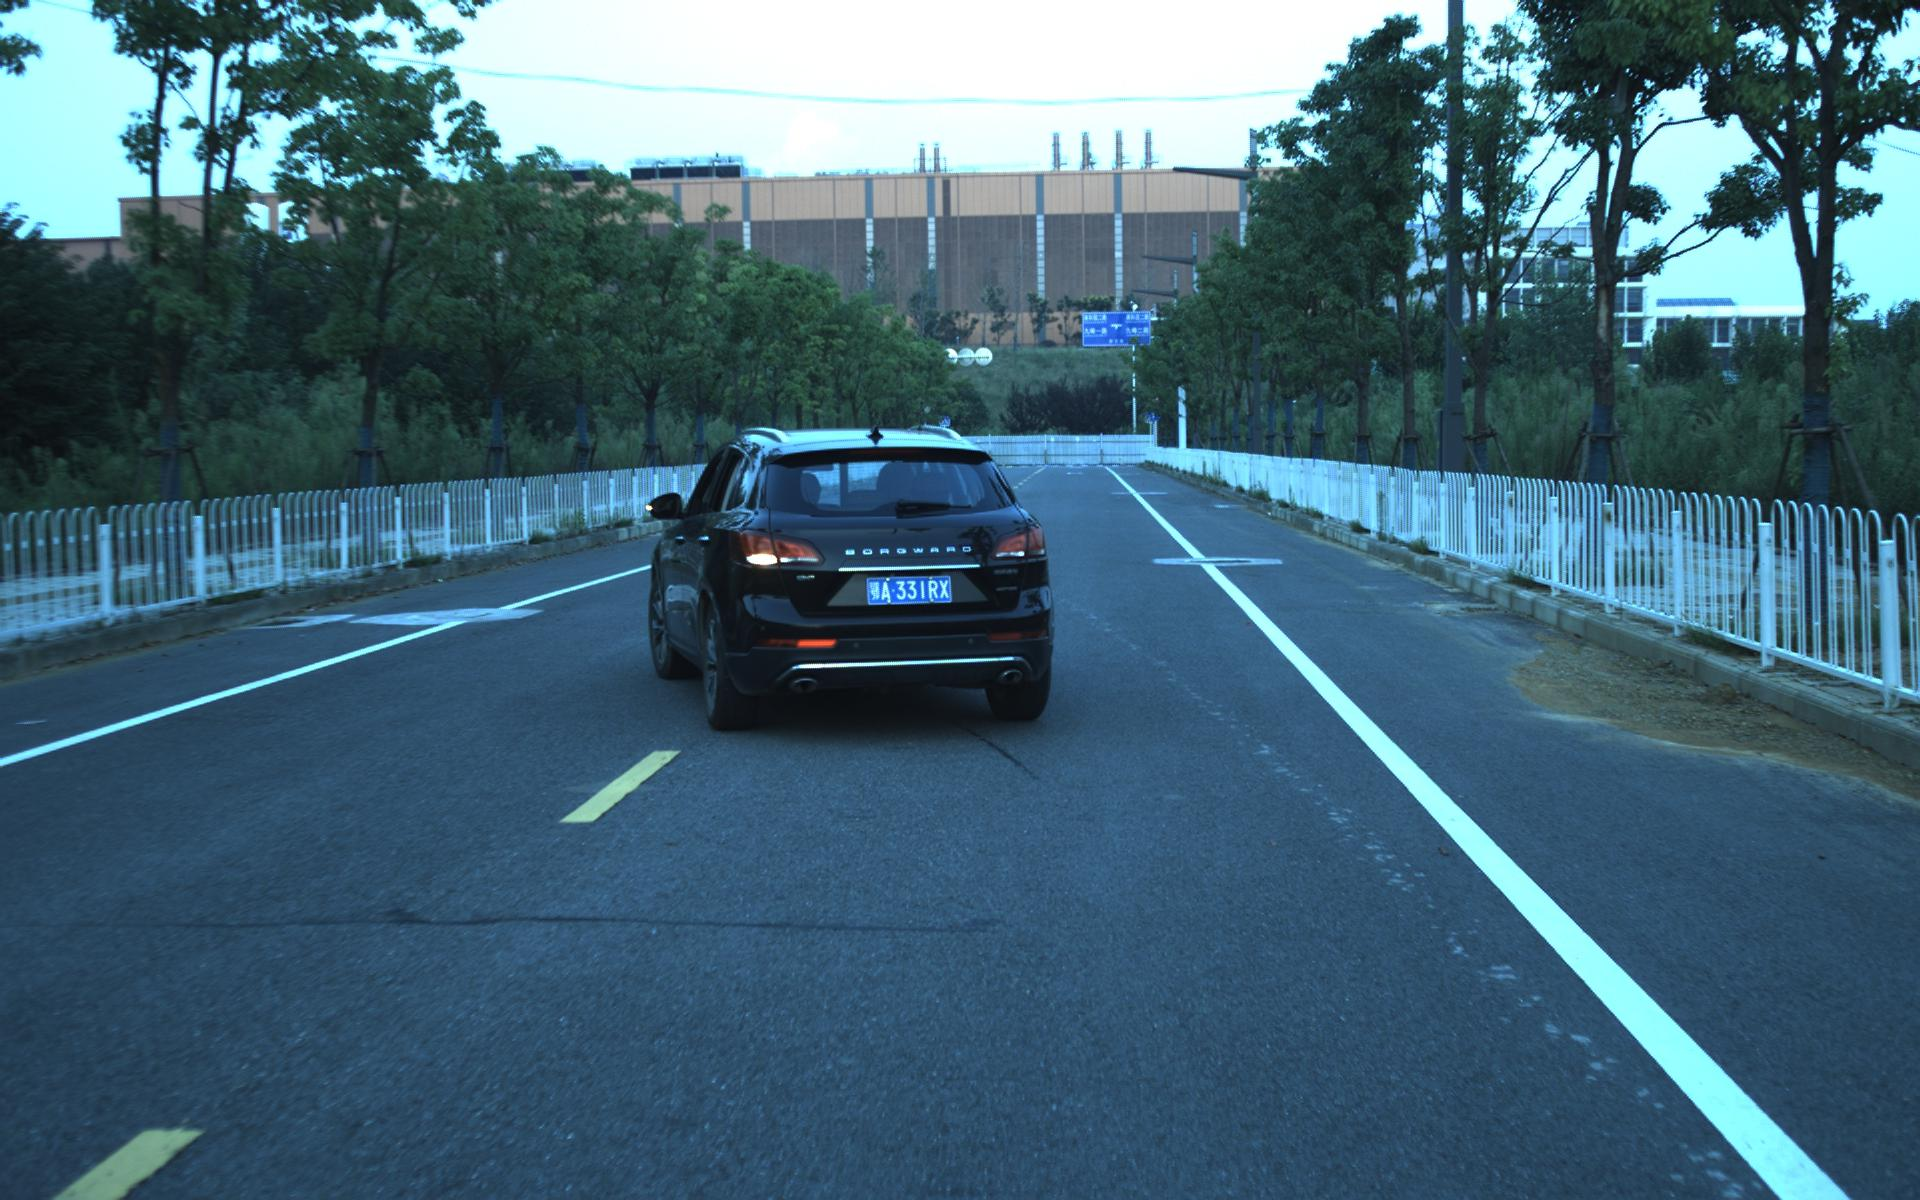Car: (637, 413, 1063, 745)
